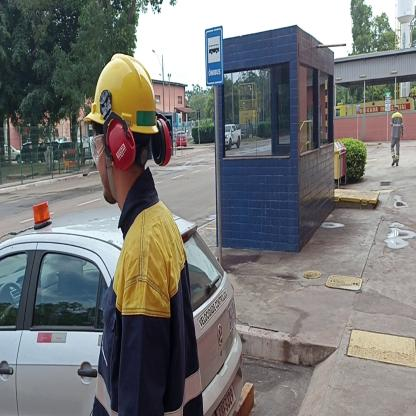C_eletrica: (97, 230, 214, 416)
Capacete: (90, 52, 165, 134)
